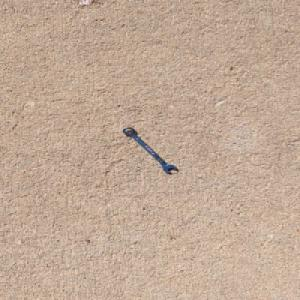Wrench: (121, 126, 179, 174)
